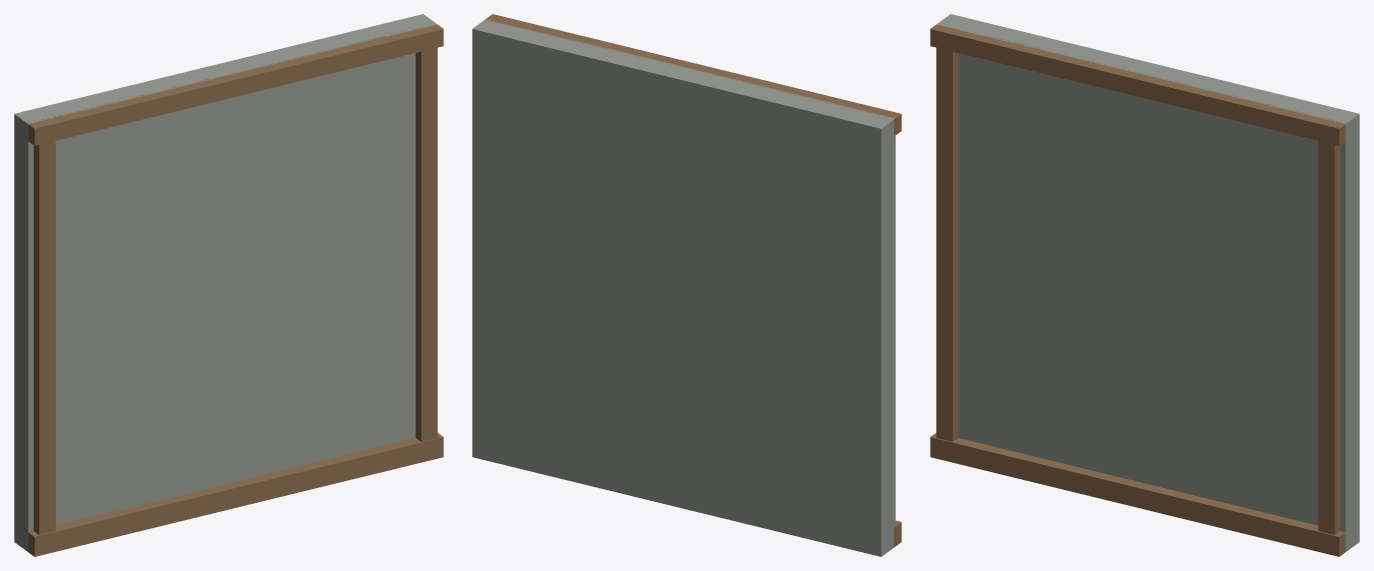
The model's file is wall.glb.
The picture shows the model from 3 angles, left to right: view 1: azimuth 30°, elevation 25°; view 2: azimuth 150°, elevation 25°; view 3: azimuth 330°, elevation 25°; orthographic projection.
Parts seen in each view (by area): view 1: Стена с плинтусом; view 2: Стена с плинтусом; view 3: Стена с плинтусом.
Part boxes in pixels (x1,y1,x2,y2): Стена с плинтусом: (14,14,443,556); Стена с плинтусом: (472,14,901,556); Стена с плинтусом: (930,14,1359,556).
Bounding box in the file's own units: 3 × 3 × 0.26.
